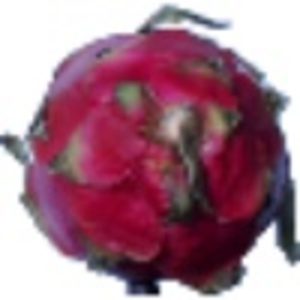pitaia: (1, 3, 300, 298)
